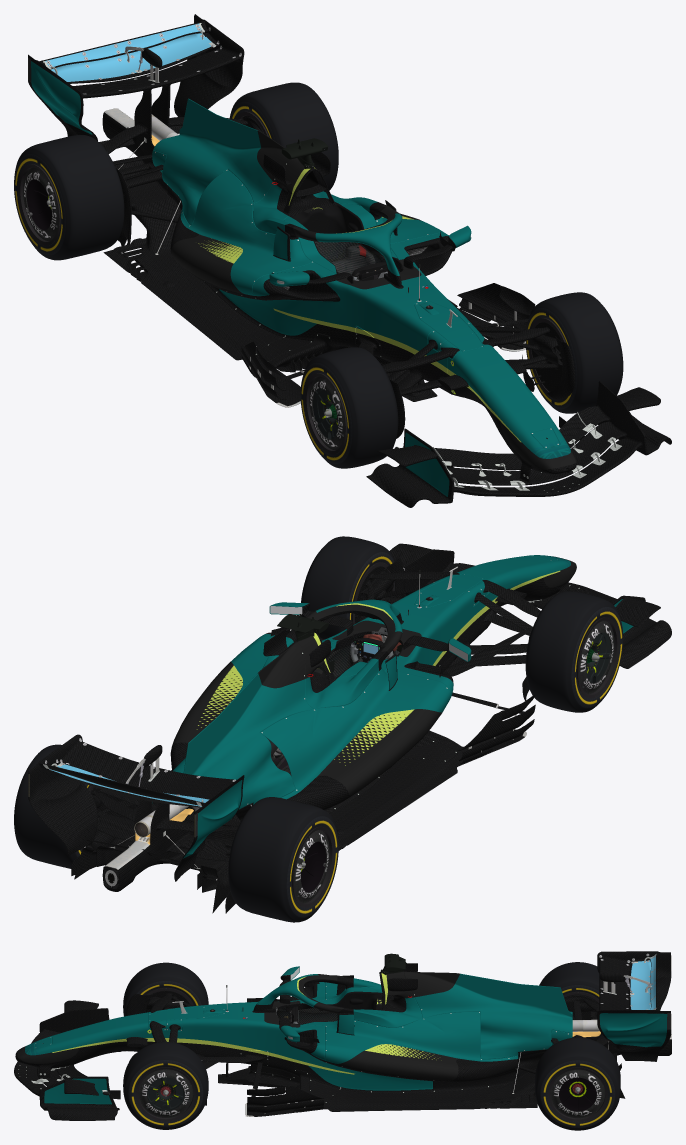
The picture shows the model from 3 angles, top to bottom: view 1: azimuth 30°, elevation 25°; view 2: azimuth 150°, elevation 25°; view 3: azimuth 270°, elevation 25°; orthographic projection. The views are drawn at different scales.
Parts seen in each view (by area): view 1: safetycell_force_india_paint_0, floor_damage_r_force_india_carbon1_0, sidepod_fr_force_india_paint_0, WHEEL_RR_TYRE, topcanopy_bm_force_india_paint_0, WHEEL_RF_TYRE, nosecone_force_india_paint_0, safetycell_force_india_carbon2_0, WHEEL_LF_TYRE, frontspoiler_fm_force_india_carbon1_0, WHEEL_LR_TYRE, rearwingmoving_top_force_india_paint_0 (+26 smaller); view 2: sidepod_fr_force_india_paint_0, topcanopy_bm_force_india_paint_0, safetycell_force_india_paint_0, WHEEL_RR_TYRE, WHEEL_RF_TYRE, floor_damage_r_force_india_carbon1_0, rearwing_top_force_india_carbon2_0, WHEEL_LF_TYRE, rearwing_top_force_india_carbon1_0, sidepod_fl_force_india_paint_0, safetycell_force_india_carbon2_0, WHEEL_LR_TYRE (+24 smaller); view 3: safetycell_force_india_paint_0, topcanopy_bm_force_india_paint_0, sidepod_fl_force_india_paint_0, floor_damage_l_force_india_carbon1_0, WHEEL_LR_TYRE, safetycell_force_india_carbon2_0, WHEEL_LF_TYRE, nosecone_force_india_paint_0, sidepod_fl_force_india_carbon2_0, wheel_fl_force_india_wheel_0, wheel_bl_force_india_wheel_0, rearwing_top_force_india_carbon2_0 (+21 smaller).
Boxes of the visible parts, left/top/right/bottom form: safetycell_force_india_paint_0: left=219, top=158, right=492, bottom=373; floor_damage_r_force_india_carbon1_0: left=103, top=198, right=425, bottom=406; sidepod_fr_force_india_paint_0: left=152, top=150, right=314, bottom=295; WHEEL_RR_TYRE: left=14, top=135, right=124, bottom=260; topcanopy_bm_force_india_paint_0: left=153, top=98, right=292, bottom=224; WHEEL_RF_TYRE: left=300, top=347, right=398, bottom=468; nosecone_force_india_paint_0: left=447, top=346, right=576, bottom=469; safetycell_force_india_carbon2_0: left=213, top=152, right=496, bottom=379; WHEEL_LF_TYRE: left=525, top=292, right=623, bottom=413; frontspoiler_fm_force_india_carbon1_0: left=446, top=416, right=642, bottom=496; WHEEL_LR_TYRE: left=229, top=82, right=338, bottom=192; rearwingmoving_top_force_india_paint_0: left=45, top=23, right=214, bottom=81; sidepod_fr_force_india_paint_0: left=260, top=656, right=450, bottom=799; topcanopy_bm_force_india_paint_0: left=173, top=642, right=313, bottom=809; safetycell_force_india_paint_0: left=257, top=572, right=490, bottom=709; WHEEL_RR_TYRE: left=228, top=797, right=338, bottom=922; WHEEL_RF_TYRE: left=525, top=591, right=623, bottom=712; floor_damage_r_force_india_carbon1_0: left=220, top=694, right=535, bottom=850; rearwing_top_force_india_carbon2_0: left=28, top=734, right=244, bottom=881; WHEEL_LF_TYRE: left=301, top=536, right=394, bottom=639; rearwing_top_force_india_carbon1_0: left=38, top=740, right=236, bottom=862; sidepod_fl_force_india_paint_0: left=152, top=638, right=268, bottom=803; safetycell_force_india_carbon2_0: left=263, top=572, right=495, bottom=808; WHEEL_LR_TYRE: left=14, top=744, right=90, bottom=868; safetycell_force_india_paint_0: left=148, top=971, right=432, bottom=1090; topcanopy_bm_force_india_paint_0: left=404, top=971, right=572, bottom=1059; sidepod_fl_force_india_paint_0: left=325, top=1012, right=572, bottom=1080; floor_damage_l_force_india_carbon1_0: left=218, top=1069, right=537, bottom=1116; WHEEL_LR_TYRE: left=535, top=1037, right=620, bottom=1130; safetycell_force_india_carbon2_0: left=149, top=963, right=432, bottom=1093; WHEEL_LF_TYRE: left=123, top=1042, right=208, bottom=1129; nosecone_force_india_paint_0: left=17, top=1012, right=154, bottom=1063; sidepod_fl_force_india_carbon2_0: left=325, top=1013, right=546, bottom=1092; wheel_fl_force_india_wheel_0: left=136, top=1067, right=195, bottom=1121; wheel_bl_force_india_wheel_0: left=548, top=1067, right=607, bottom=1121; rearwing_top_force_india_carbon2_0: left=597, top=951, right=671, bottom=1061.
Size of the model in its own units: 1.89 by 1.16 by 5.43.
Materials: 18 (11 with a texture image).
